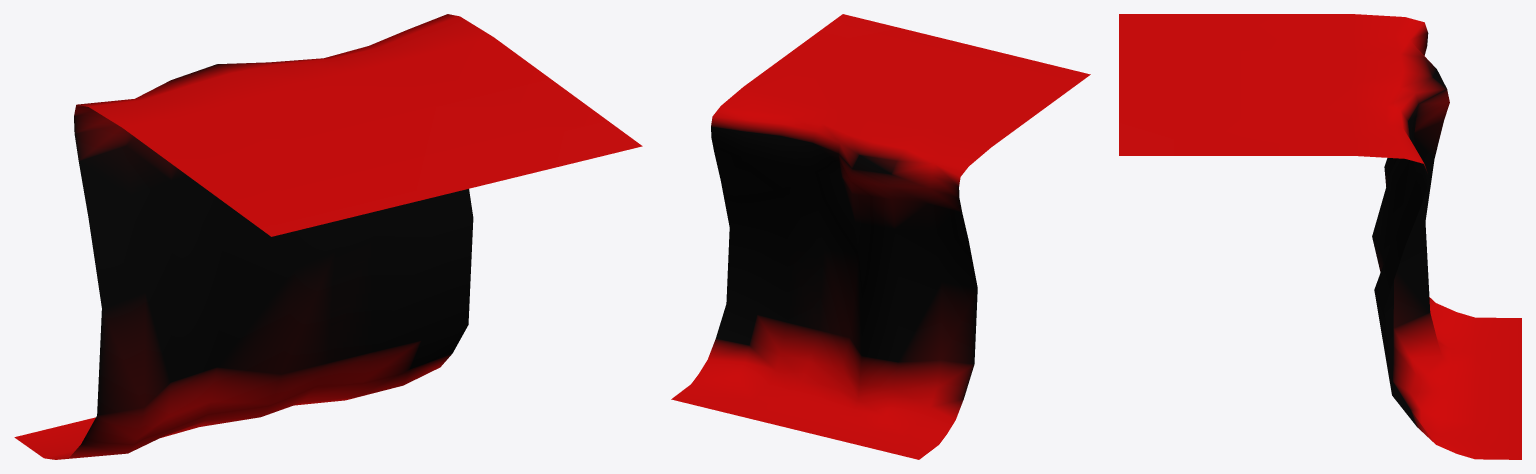
The model's file is GroundCliff00B 1M Background.fbx.
3 renders of one model, left to right at view 1: azimuth 30°, elevation 25°; view 2: azimuth 150°, elevation 25°; view 3: azimuth 270°, elevation 25°, orthographic. The views are drawn at different scales.
Parts seen in each view (by area): view 1: GroundCliff00B 1M Background; view 2: GroundCliff00B 1M Background; view 3: GroundCliff00B 1M Background.
Part boxes in pixels (<box>): GroundCliff00B 1M Background: <box>14,14,642,459</box>; GroundCliff00B 1M Background: <box>671,14,1090,459</box>; GroundCliff00B 1M Background: <box>1119,14,1521,459</box>.
Size of the model in its own units: 1 by 1 by 1.2.
